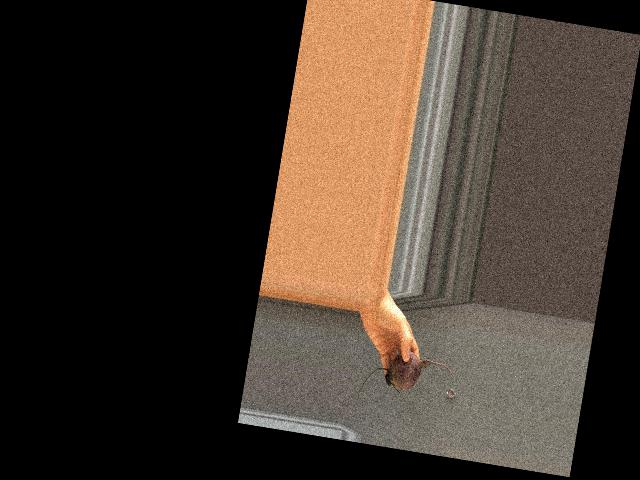beet: (356, 344, 455, 414)
